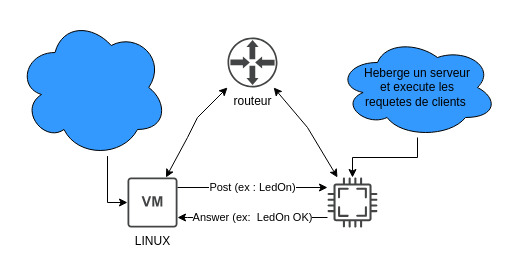
This 515x266 diagram has some shape labels left out. The shapes that lost their labels are listed below. From the top down, each one's box as (x1, y1, x2, y2) in pixels, then its label:
(16, 16, 168, 158): Execution d'un programme qui propose à l'utilisateur des actions à envoyer
(327, 177, 377, 227): ESP32 (SERVER)
